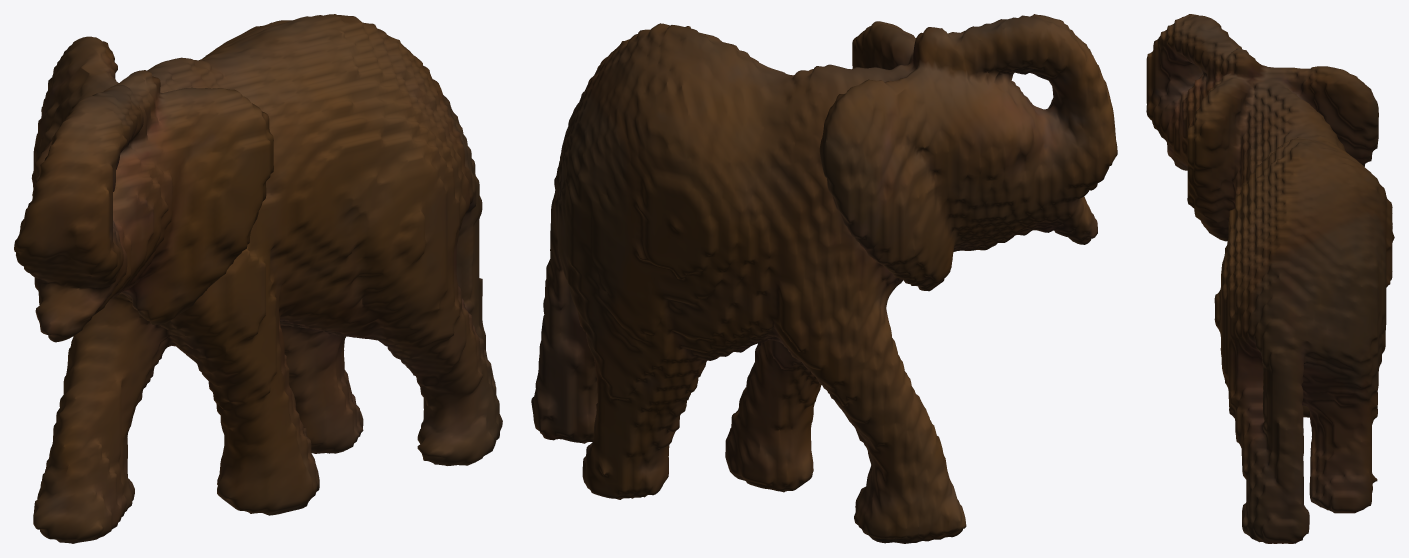
Rendered from wooden-elephant.glb.
3 views of the same model, side by side, from view 1: azimuth 30°, elevation 25°; view 2: azimuth 150°, elevation 25°; view 3: azimuth 270°, elevation 25° (orthographic). The views are drawn at different scales.
Visible parts, largest first — view 1: wooden-elephant; view 2: wooden-elephant; view 3: wooden-elephant.
Boxes of the visible parts, bbox=[...] form: wooden-elephant: bbox=[14, 14, 502, 543]; wooden-elephant: bbox=[531, 14, 1117, 543]; wooden-elephant: bbox=[1146, 14, 1394, 543].
Bounding box in the file's own units: 0.1 × 0.0883 × 0.0535.
